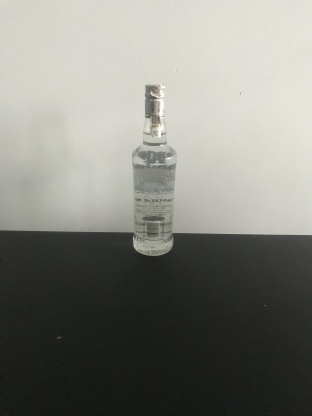nakretka: (143, 81, 167, 117)
